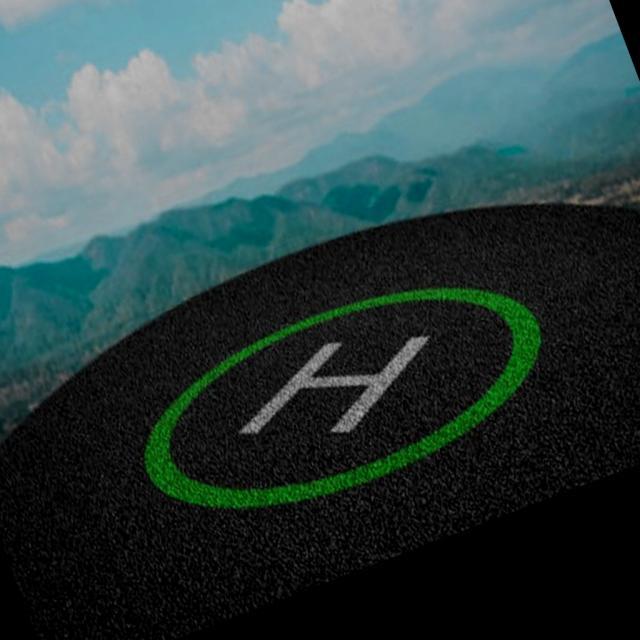helipad: (138, 281, 544, 512)
